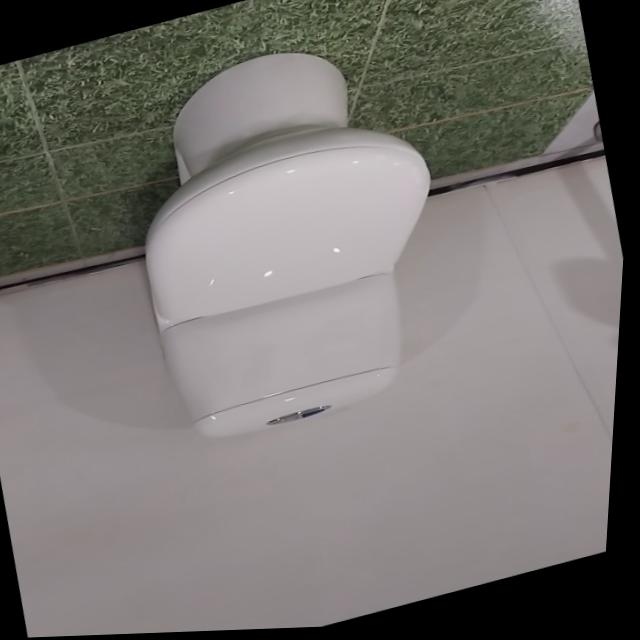toilet: (98, 18, 487, 458)
